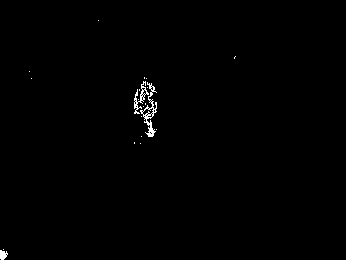person: (133, 77, 158, 137)
